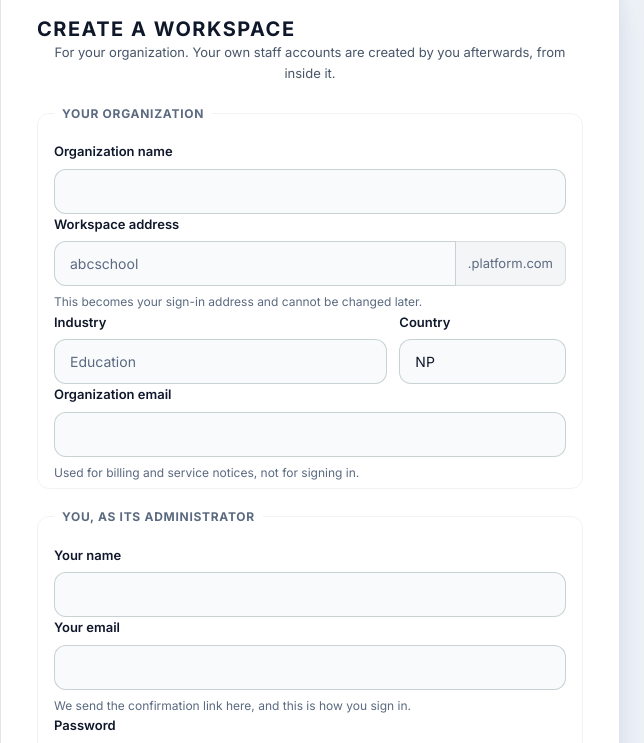
the registration form › says that nothing is created yet, before and after submitting
Type "New School" into the field labelled "Organization name" at [310, 191], box [54,169,566,214]
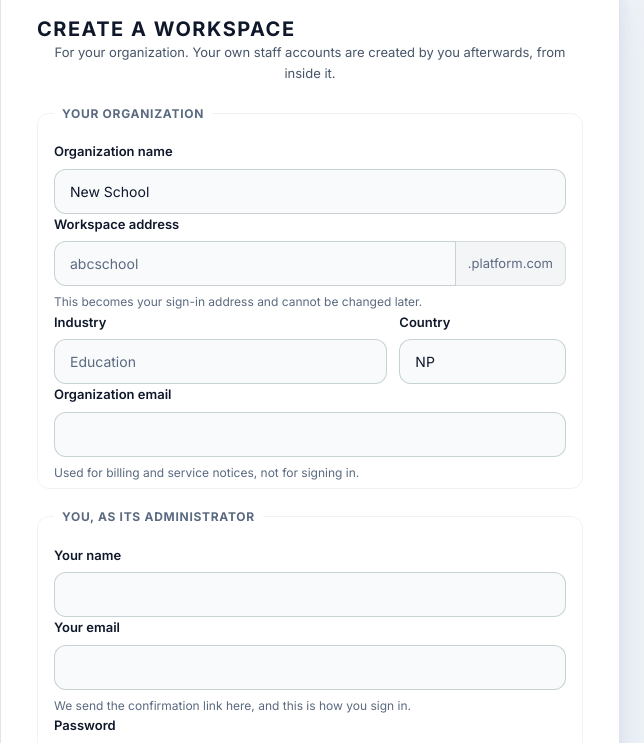
Type "office@newschool.test" into the field labelled "Organization email" at [310, 435], box [54,412,566,457]
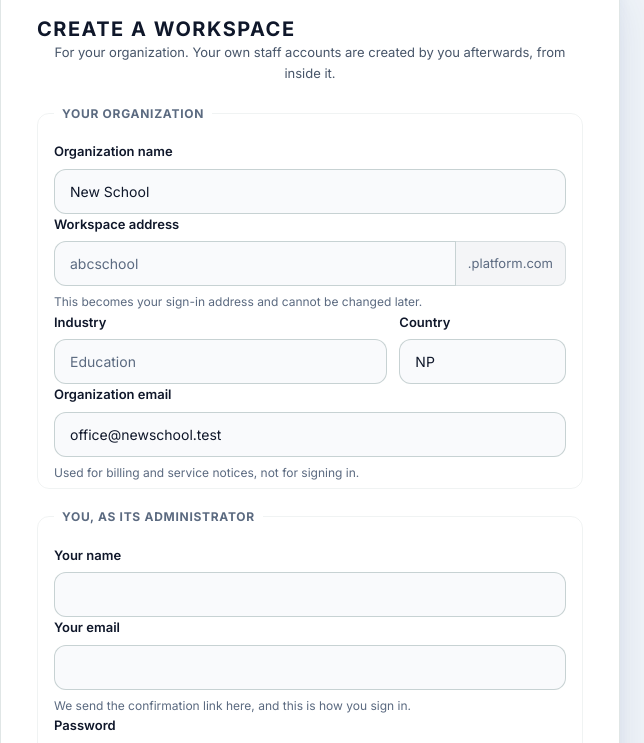
Type "head@newschool.test" into the field labelled "Your email" at [310, 668], box [54,645,566,690]
(page scrolled)
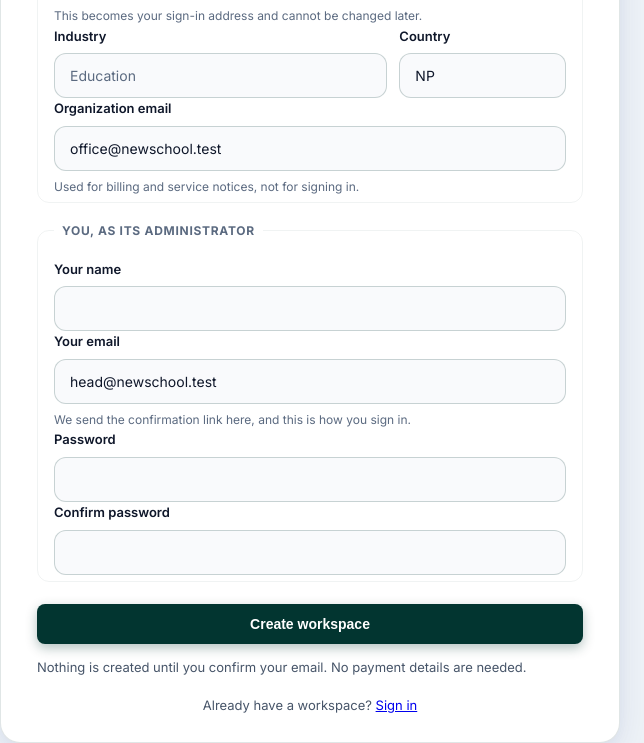
Type "Str0ng-Pass-2026" into the password field labelled "Password" at [310, 480], box [54,457,566,502]
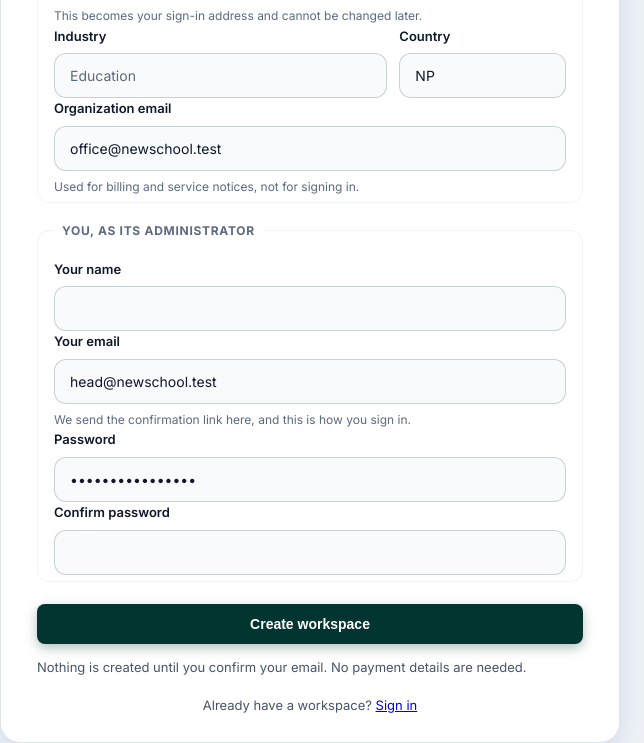
Type "Str0ng-Pass-2026" into the password field labelled "Confirm password" at [310, 552], box [54,530,566,575]
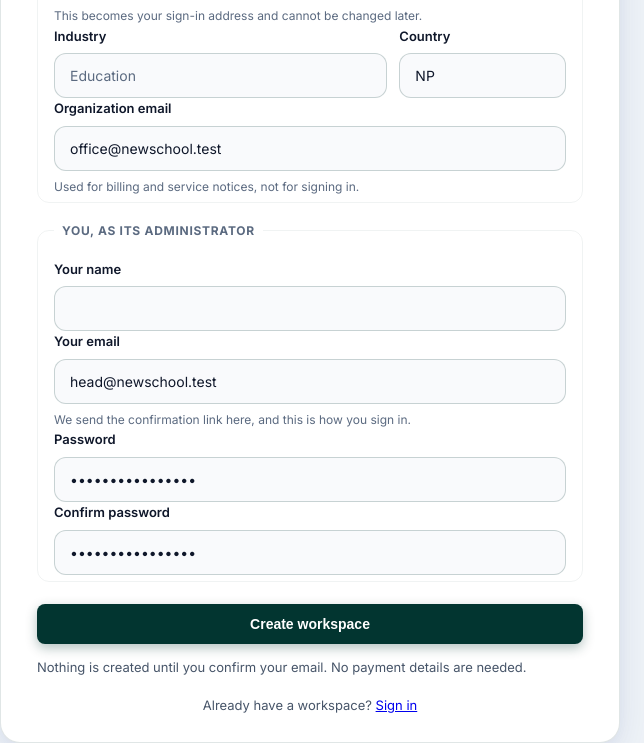
Click the button "Create workspace" at [310, 624], box [37,604,583,644]
(page scrolled)
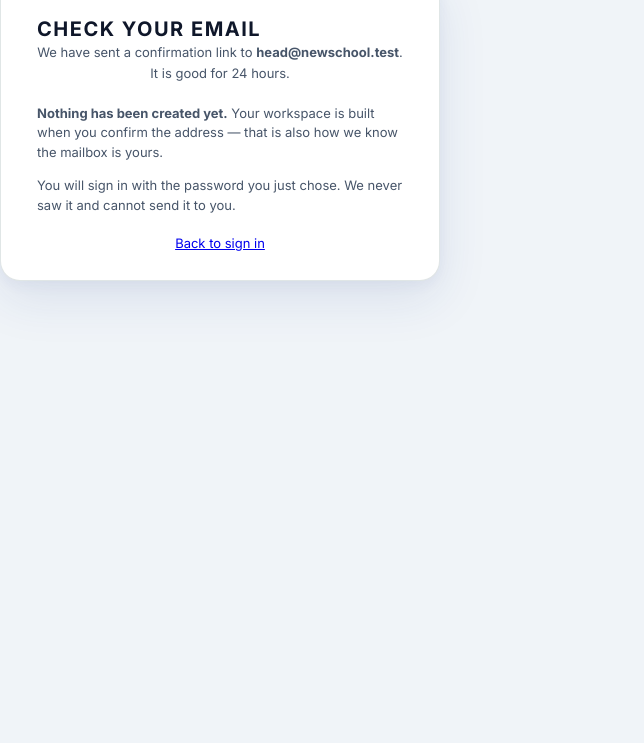
Now the heading "Check your email" is shown, box [37,17,261,41]
Now the text "Nothing has been created yet." is shown, box [37,105,228,121]
